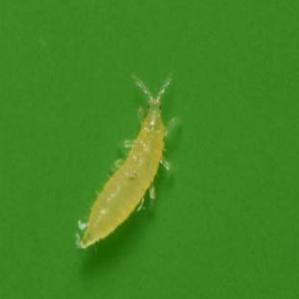melon thrips: (36, 56, 212, 261)
